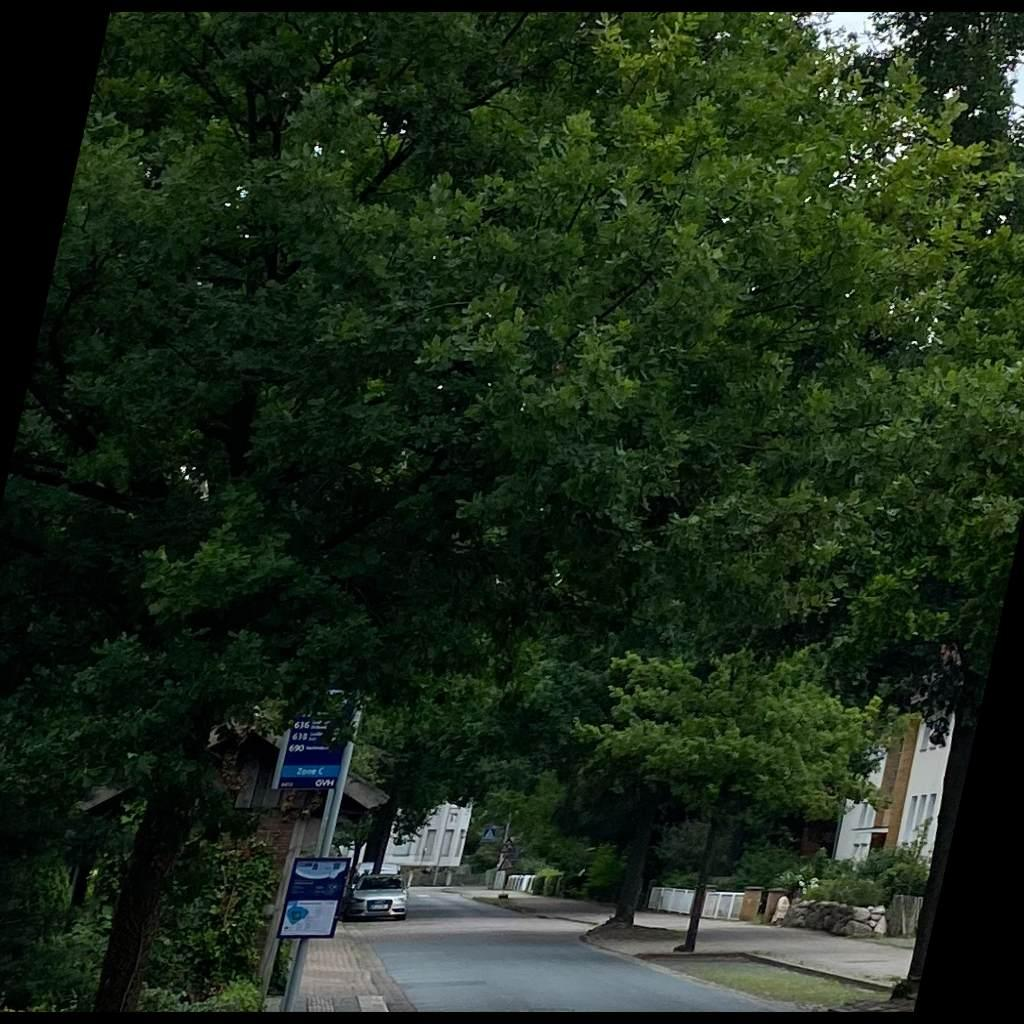tree: (1, 12, 1024, 1011), (568, 648, 925, 952), (837, 12, 1024, 239), (551, 757, 702, 925), (362, 760, 486, 862), (332, 814, 374, 890), (372, 793, 401, 874)
